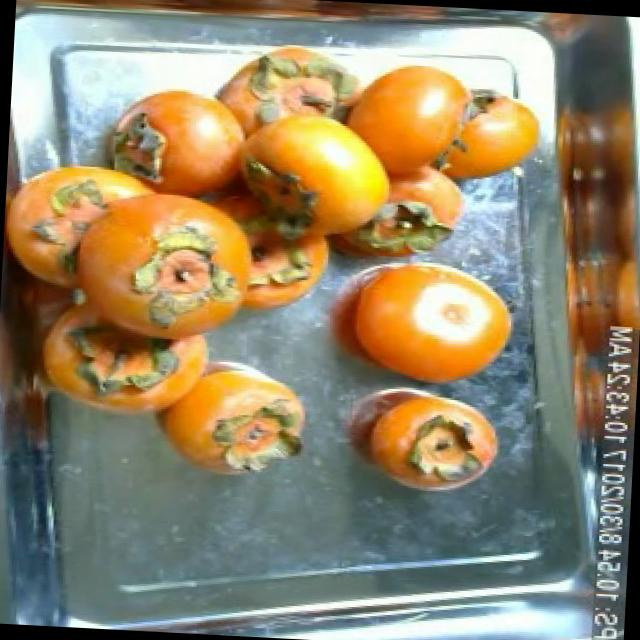Fruit: (170, 349, 324, 486), (346, 388, 512, 504), (424, 76, 556, 196)
